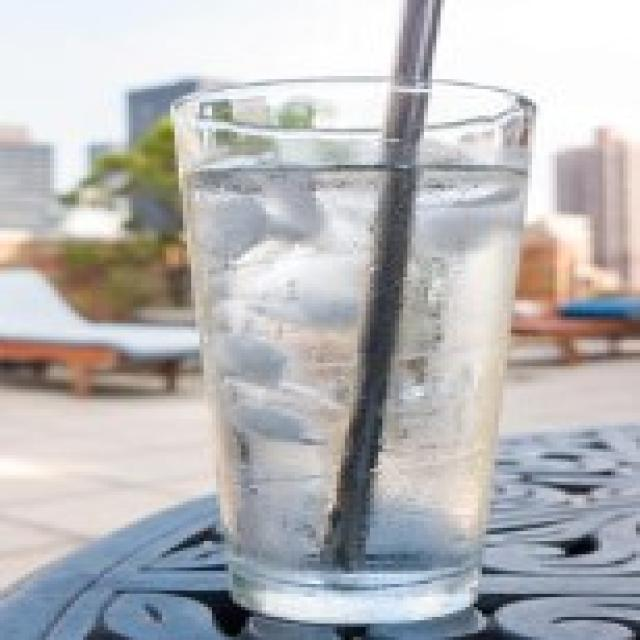electronic: (166, 76, 546, 630)
